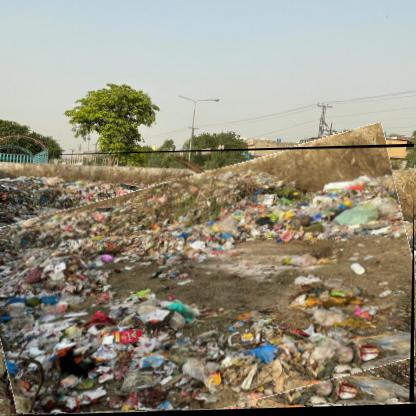Garbage: (1, 147, 416, 416)
